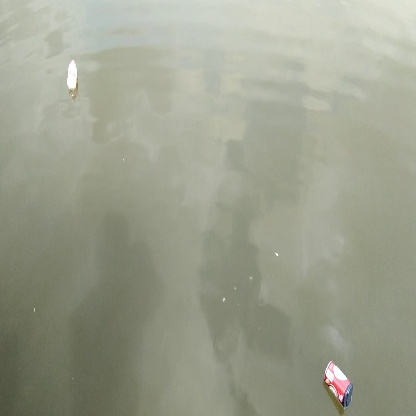bottle: (320, 356, 356, 410)
